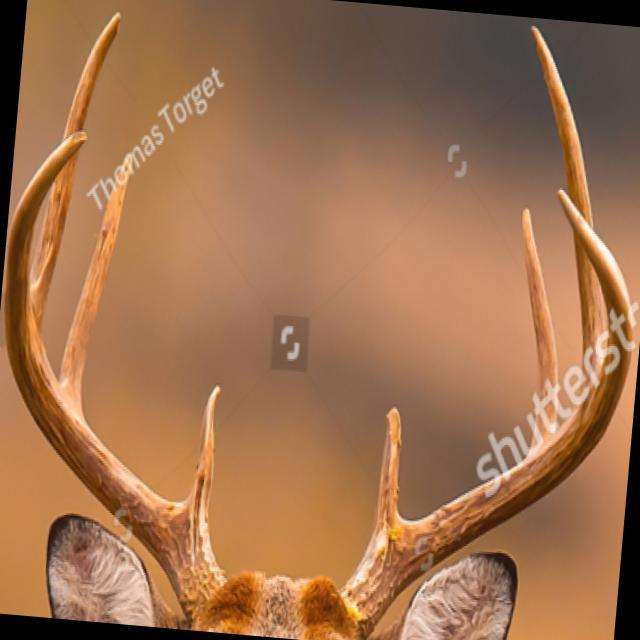L-F: (338, 185, 637, 640)
L-G1: (371, 401, 406, 535)
L-G2: (518, 202, 559, 458)
R-F: (3, 128, 228, 622)
R-G1: (182, 381, 222, 533)
R-G2: (59, 149, 136, 413)
